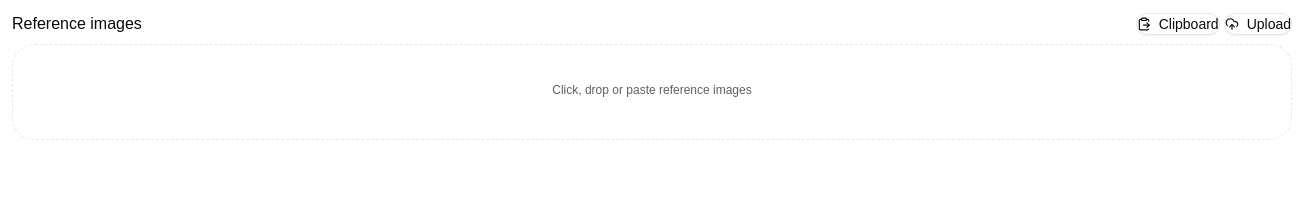
image reference inputs › reads a reference from the clipboard button and reports permission failure without changing references
The width and height of the screenshot is (1304, 217).
Click the button "Clipboard". click: (1178, 24)
box: 1136,13 -> 1220,35
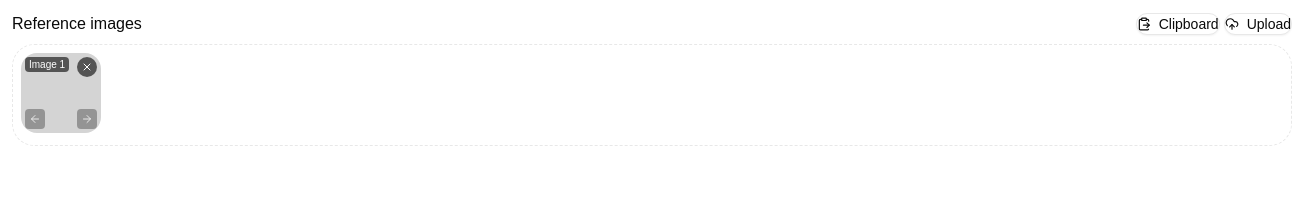
Click the button "Clipboard". click: (1178, 24)
box: 1136,13 -> 1220,35
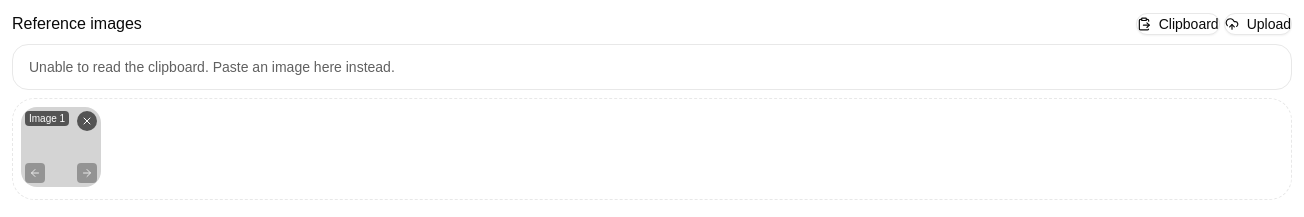
Expected: the text "Unable to read the clipboard. Paste an image here instead." is shown, 29,59 -> 395,75
